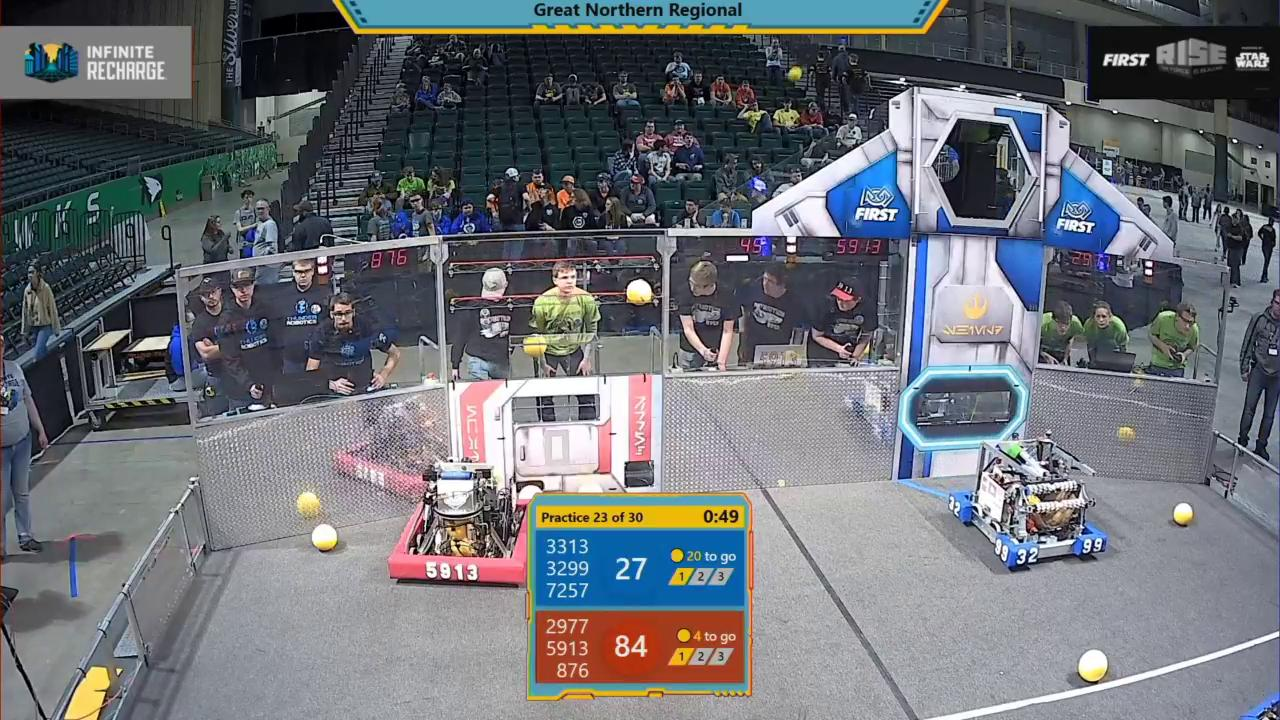robot: (948, 438, 1110, 573), (387, 460, 532, 587)
